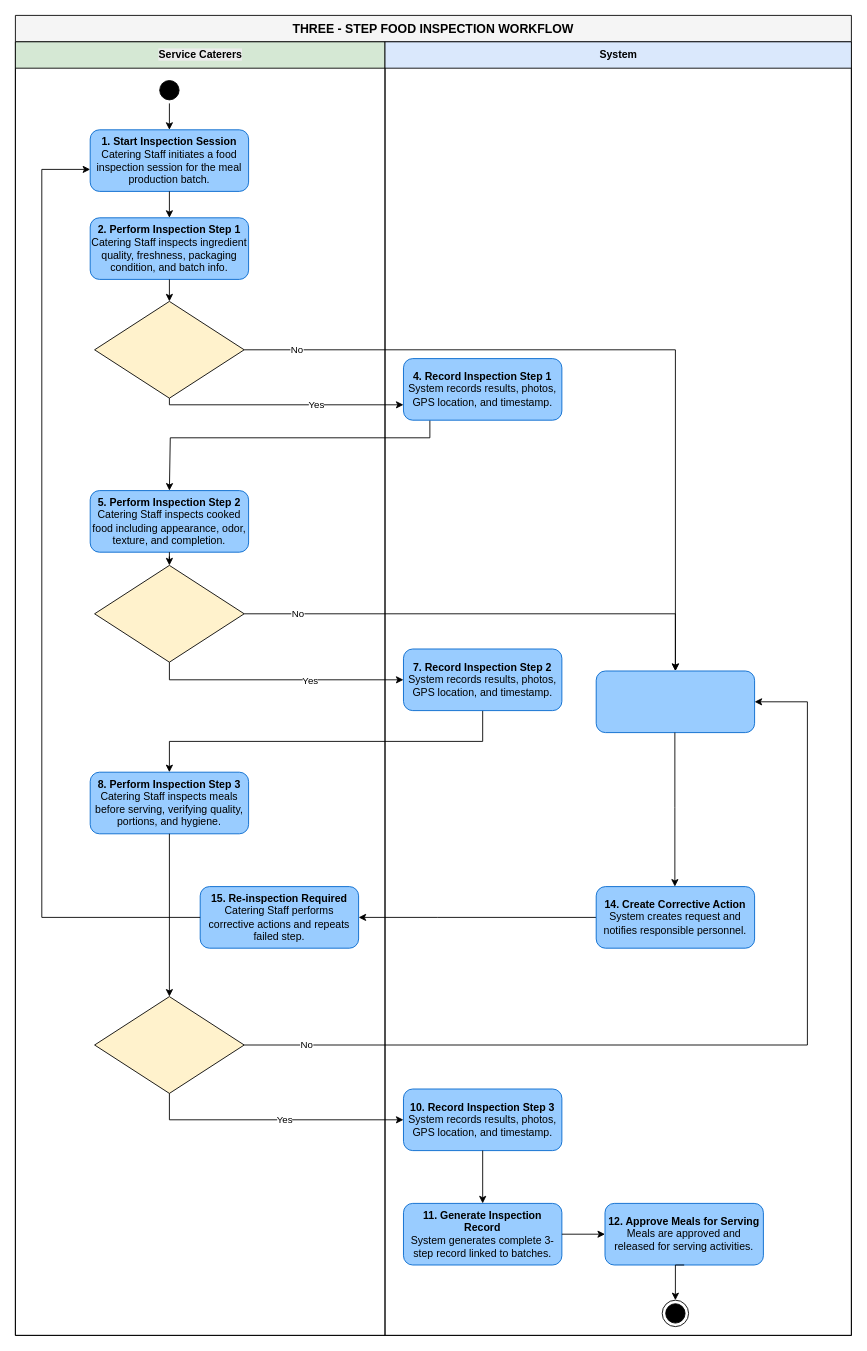
Image size: 867x1351. Some labels were removed from this diagram. The centre of each missing label's shape, as x and y in pixels:
"13. Record Non-Conformance System records food safety non-conformance details." belongs at (675,701).
"3. Step 1 Passed? BR-079 (Bước 1), BR-092, BR-094, BR-095 QĐ 1246/QĐ-BYT Điều 3" belongs at (169,349).
"6. Step 2 Passed? BR-079 (Bước 2), BR-090, BR-094, BR-095 QĐ 1246/QĐ-BYT Điều 4" belongs at (169,613).
"9. Step 3 Passed? BR-079 (Bước 3), BR-091, BR-094, BR-098 QĐ 1246/QĐ-BYT Điều 5" belongs at (169,1044).
